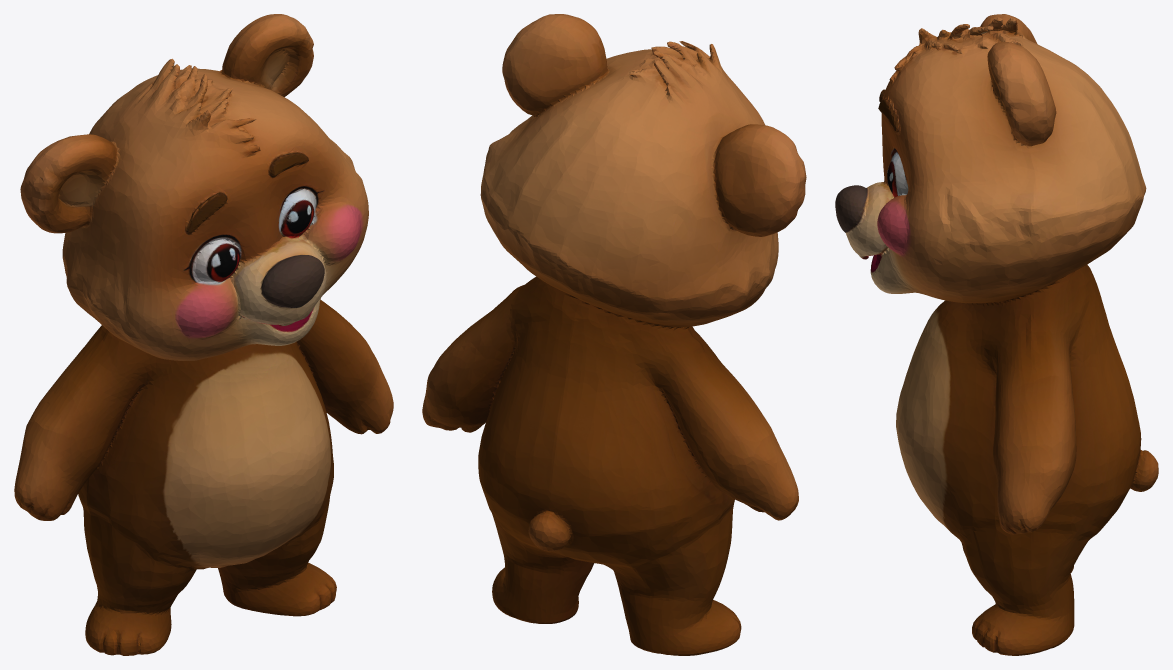
The model's file is npc_bear.glb.
The picture shows the model from 3 angles, left to right: view 1: azimuth 30°, elevation 25°; view 2: azimuth 150°, elevation 25°; view 3: azimuth 270°, elevation 25°; orthographic projection.
Parts seen in each view (by area): view 1: textured_mesh.obj; view 2: textured_mesh.obj; view 3: textured_mesh.obj.
Part boxes in pixels (x1,y1,x2,y2): textured_mesh.obj: [14, 14, 393, 655]; textured_mesh.obj: [422, 14, 806, 655]; textured_mesh.obj: [835, 14, 1158, 655].
Bounding box in the file's own units: 1.31 × 1.99 × 1.
1 material, 1 textured.
